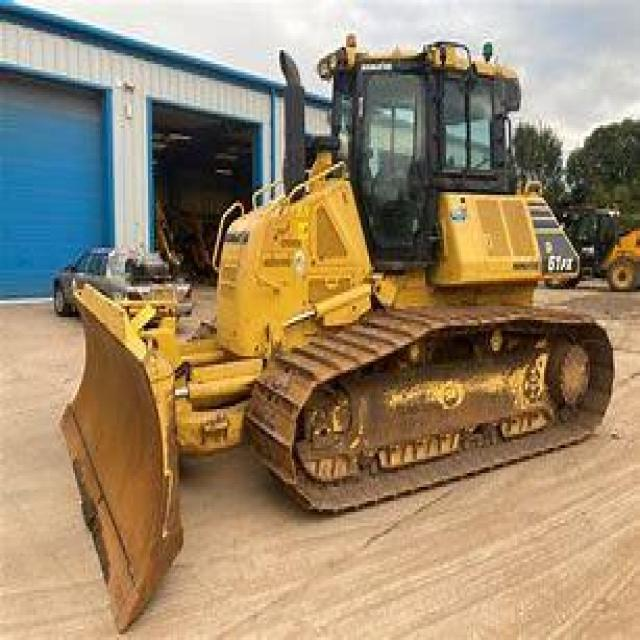buldozerpayloadergrader: (46, 25, 617, 629)
